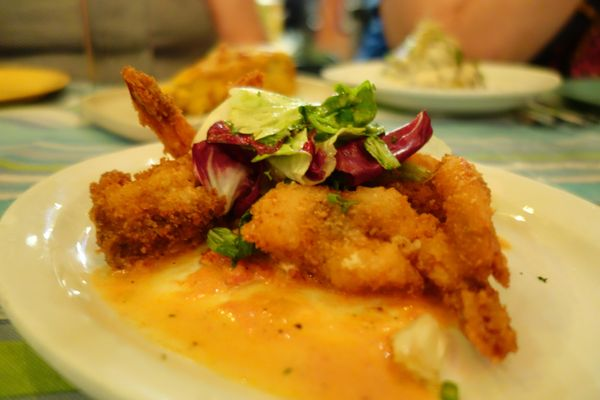curry: (1, 19, 558, 394)
